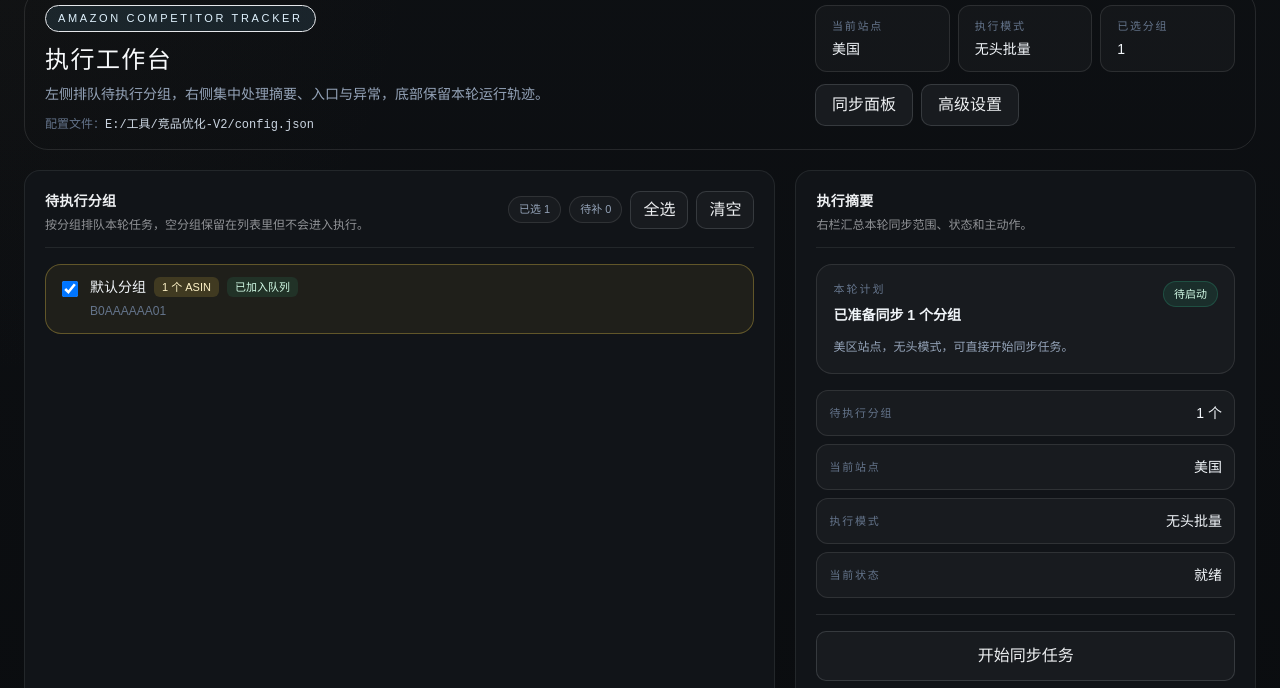
App command center home › 设置页保存配置抛出异常时显示明确失败反馈
Click the tab "高级设置". click: (970, 104)
box: 921,84 -> 1019,126
(page scrolled)
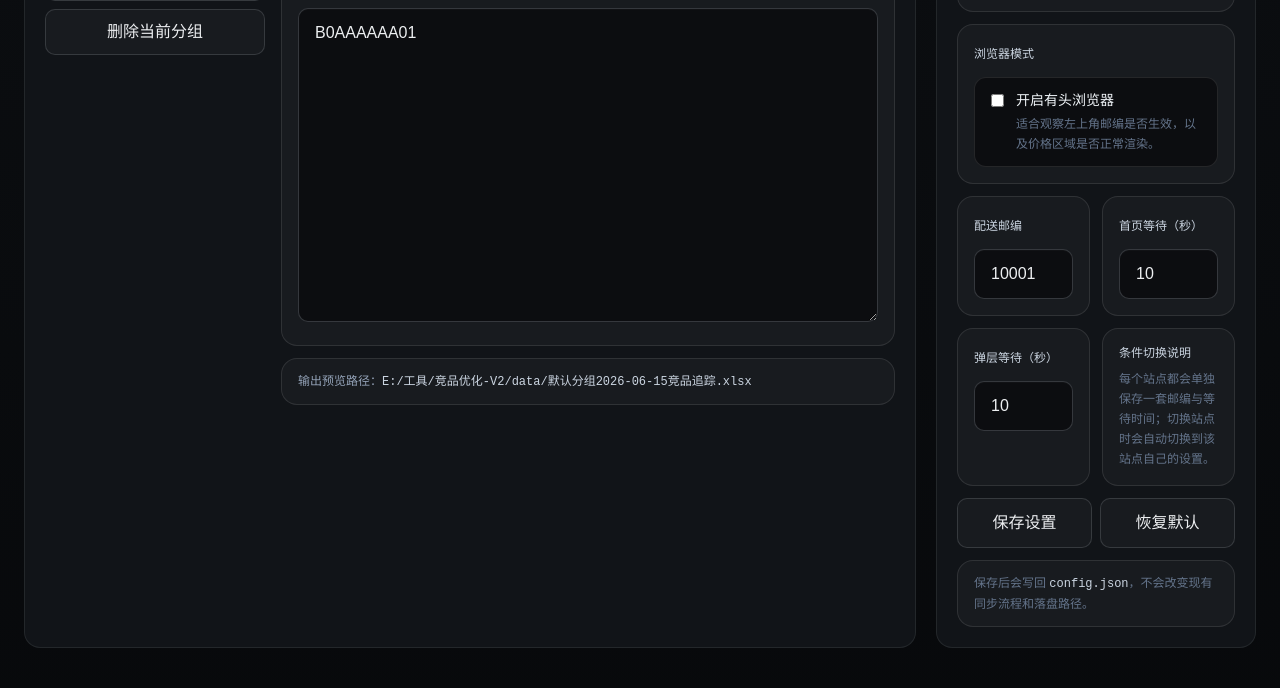
Click the button "保存设置". click: (1024, 523)
box: 957,498 -> 1092,548
(page scrolled)
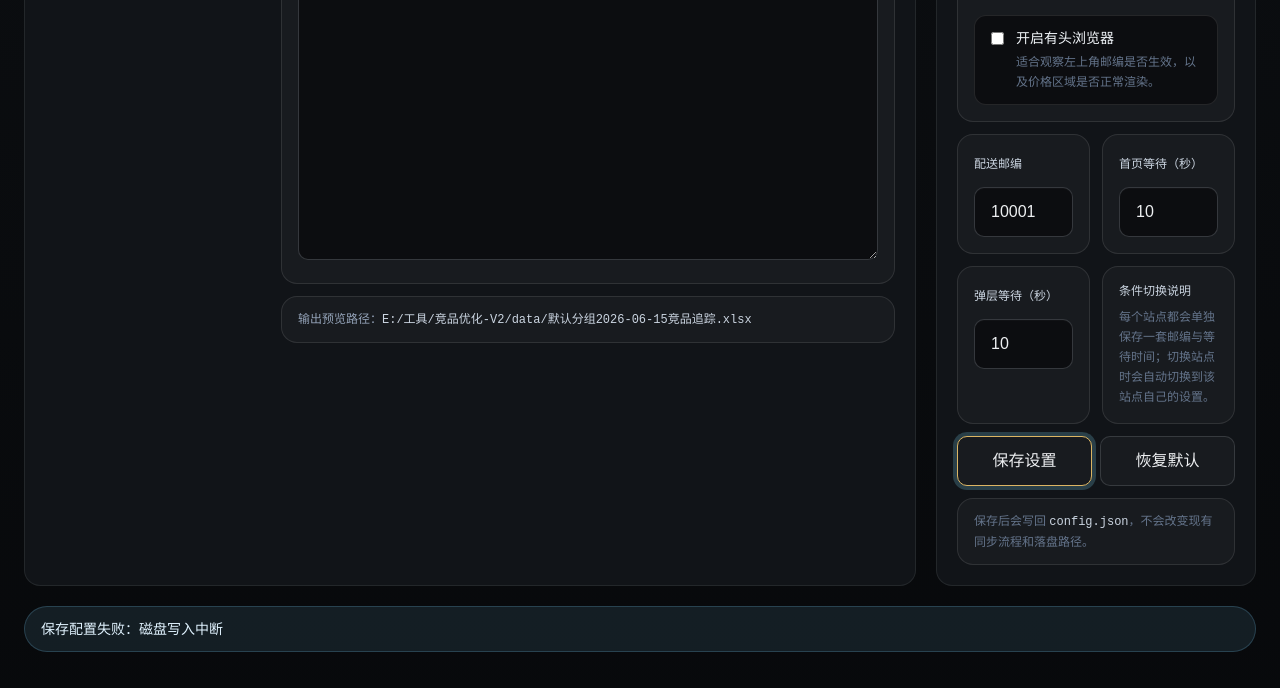
Expected: the text "保存配置失败：磁盘写入中断" is shown, 24,606 -> 1256,652
